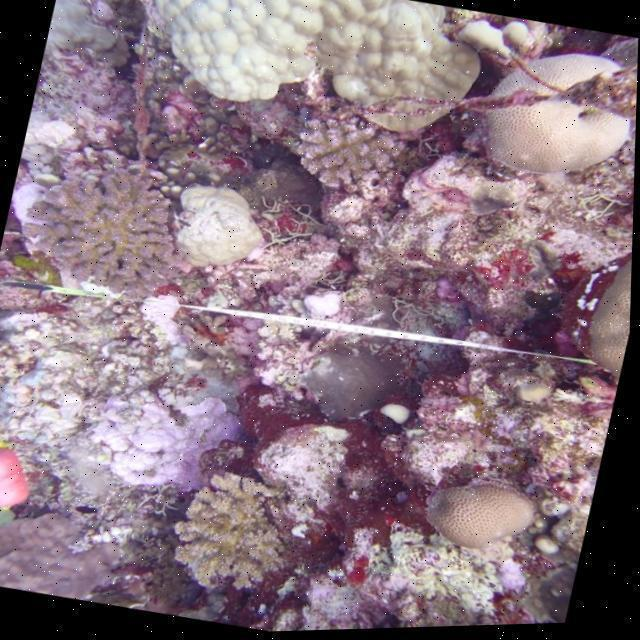Bleached Coral: (65, 393, 176, 517)
Healthy Coral: (120, 0, 494, 162), (283, 91, 413, 221), (156, 170, 289, 295), (575, 246, 636, 395), (427, 478, 543, 553)
